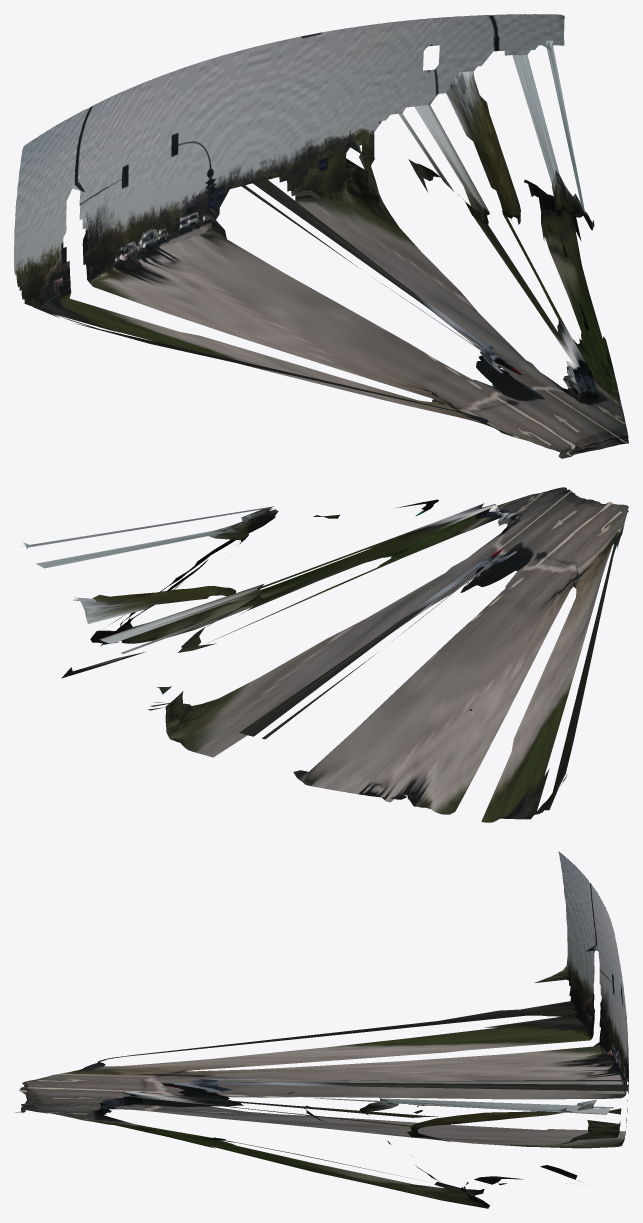
3 renders of one model, top to bottom at view 1: azimuth 30°, elevation 25°; view 2: azimuth 150°, elevation 25°; view 3: azimuth 270°, elevation 25°, orthographic. The views are drawn at different scales.
Parts seen in each view (by area): view 1: defaultobject; view 2: defaultobject; view 3: defaultobject.
Part boxes in pixels (x1,y1,x2,y2): defaultobject: (14,14,628,458); defaultobject: (21,487,628,822); defaultobject: (14,851,628,1208).
Bounding box in the file's own units: 41 × 13.75 × 44.76.
Materials: 1 (1 with a texture image).
